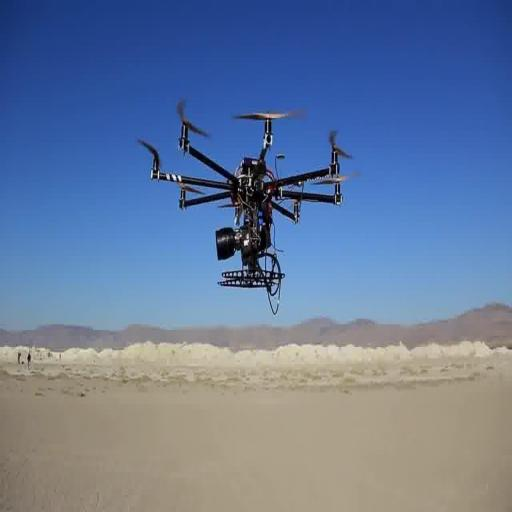drone: (142, 102, 350, 296)
